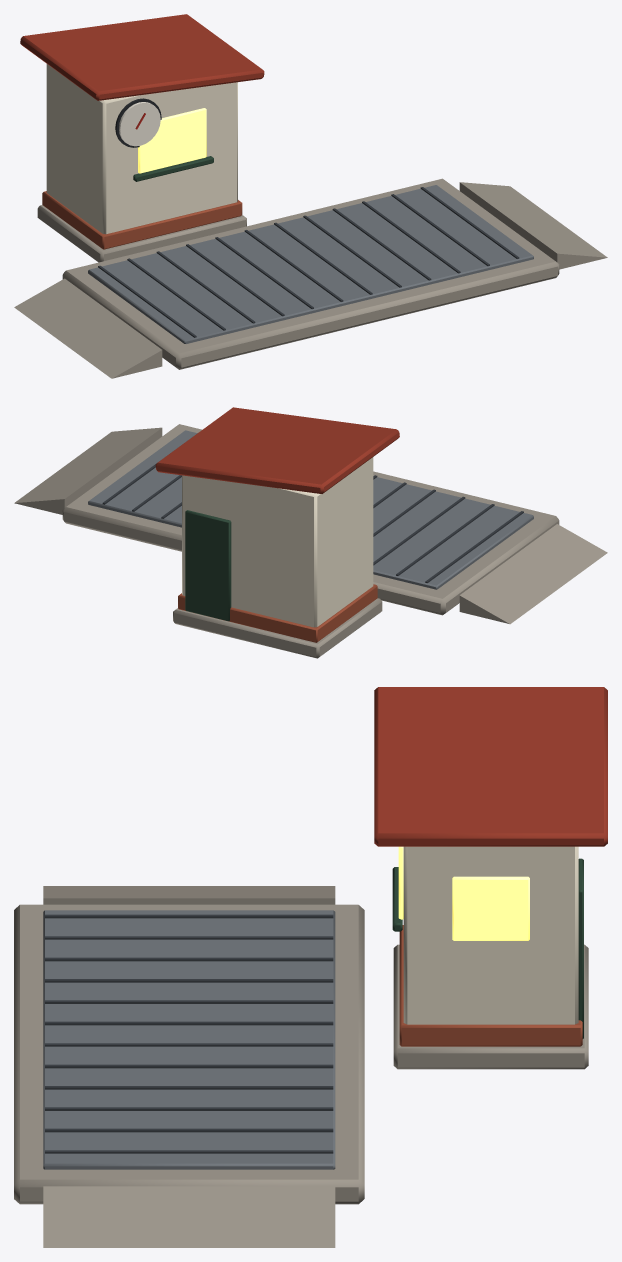
Rendered from bascula.glb.
3 renders of one model, top to bottom at view 1: azimuth 30°, elevation 25°; view 2: azimuth 150°, elevation 25°; view 3: azimuth 270°, elevation 25°, orthographic. The views are drawn at different scales.
Visible parts, largest first — view 1: bascula; view 2: bascula; view 3: bascula.
Part boxes in pixels (x1=…): bascula: x1=14, y1=14, x2=607, y2=378; bascula: x1=14, y1=407, x2=607, y2=658; bascula: x1=14, y1=687, x2=607, y2=1247.
Bounding box in the file's own units: 4.4 × 1.54 × 3.05.
